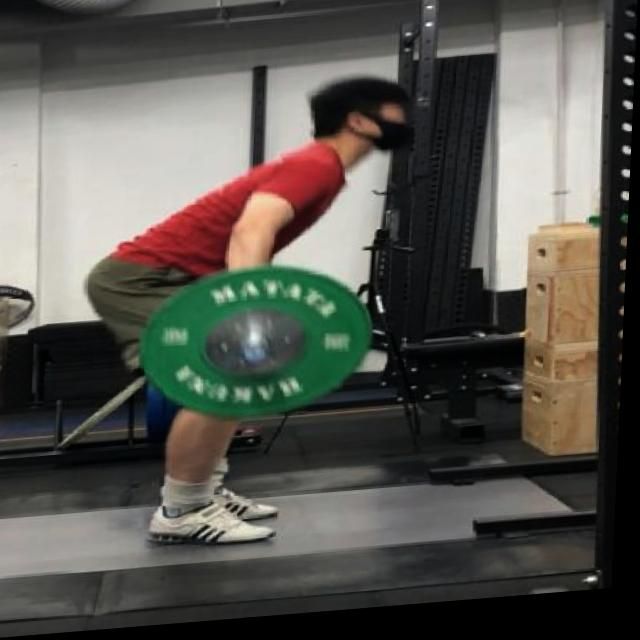barbell: (137, 258, 385, 437)
